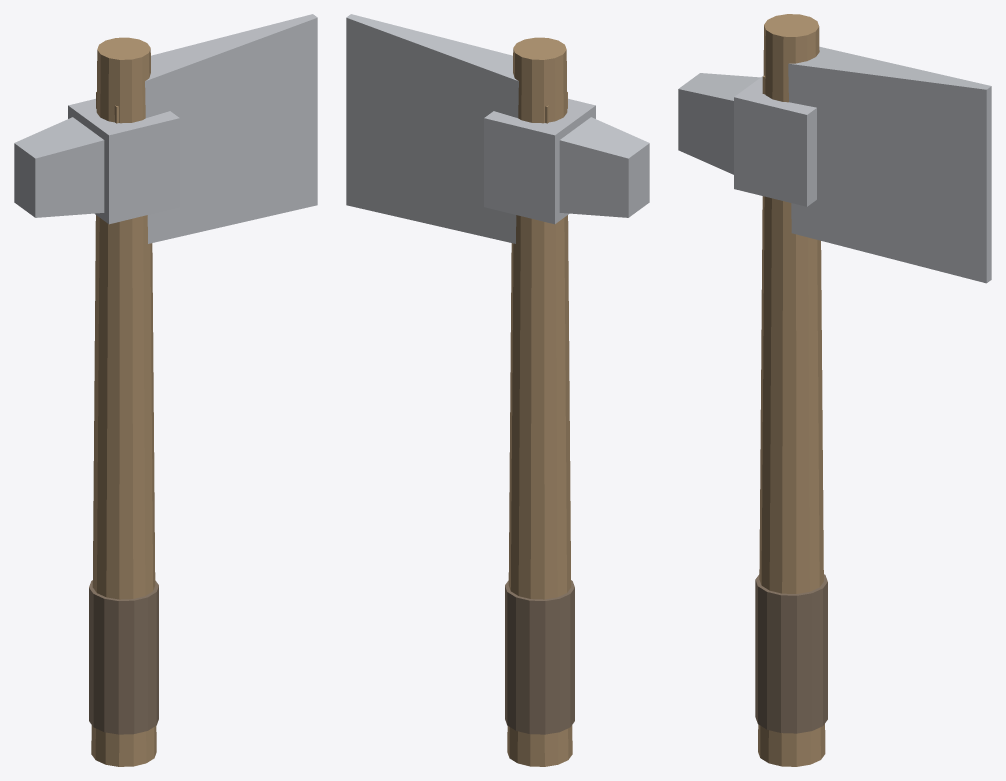
Rendered from toReplace_axe.glb.
3 views of the same model, side by side, from view 1: azimuth 30°, elevation 25°; view 2: azimuth 150°, elevation 25°; view 3: azimuth 330°, elevation 25° (orthographic). The views are drawn at different scales.
Visible parts, largest first — view 1: Blade, Handle, GripWrap, HeadHub, Poll; view 2: Blade, Handle, GripWrap, HeadHub, Poll; view 3: Blade, Handle, GripWrap, HeadHub, Poll.
Part boxes in pixels (x1,y1,x2,y2): Blade: (145,14,317,243); Handle: (91,37,156,766); GripWrap: (89,580,158,734); HeadHub: (68,98,179,224); Poll: (14,117,104,217); Blade: (346,14,518,243); Handle: (507,37,572,766); GripWrap: (505,580,574,734); HeadHub: (484,98,595,224); Poll: (559,117,649,217); Blade: (788,46,991,283); Handle: (758,14,825,766); GripWrap: (755,574,827,733); HeadHub: (734,75,816,206); Poll: (678,73,760,174).
Size of the model in its own units: 0.41 by 0.95 by 0.1.
